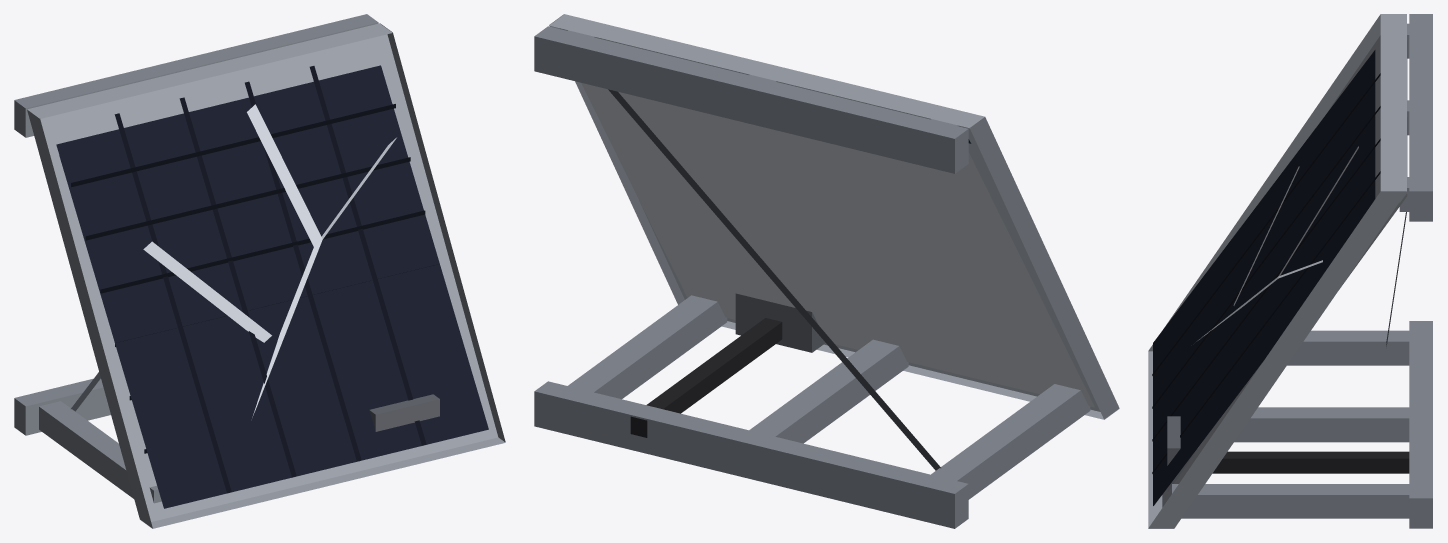
Rendered from array_ground_premium_cracked_S.obj.
3 renders of one model, left to right at view 1: azimuth 30°, elevation 25°; view 2: azimuth 150°, elevation 25°; view 3: azimuth 270°, elevation 25°, orthographic. The views are drawn at different scales.
Visible parts, largest first — view 1: array_ground_premium_cracked_S; view 2: array_ground_premium_cracked_S; view 3: array_ground_premium_cracked_S.
Boxes of the visible parts, box(x1,y1,x2,y2) form: array_ground_premium_cracked_S: box(14, 14, 505, 528); array_ground_premium_cracked_S: box(534, 14, 1119, 528); array_ground_premium_cracked_S: box(1148, 14, 1432, 528).
Size of the model in its own units: 0.881 by 0.781 by 0.5989.
Materials: 1 (1 with a texture image).
